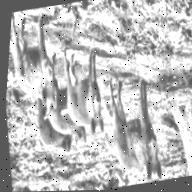boar: (102, 71, 177, 180), (5, 16, 65, 110), (56, 54, 123, 134), (46, 85, 93, 143)
